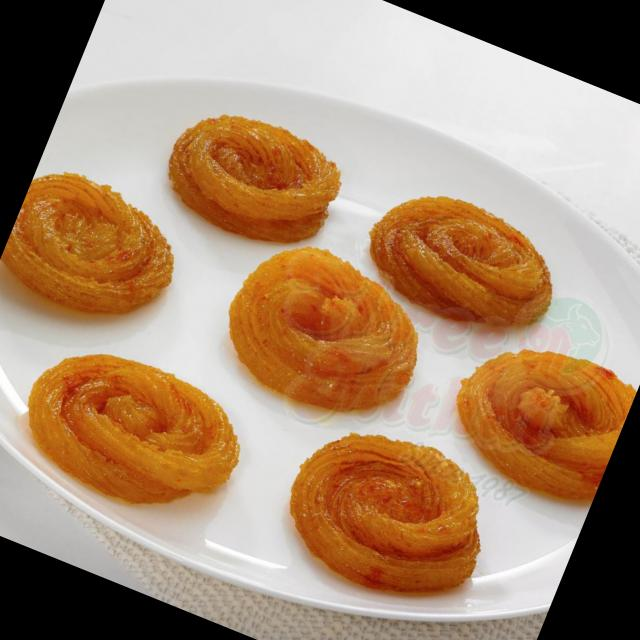jalebi: (0, 321, 252, 542), (270, 412, 506, 618), (352, 152, 584, 354), (213, 231, 448, 426), (429, 317, 636, 512), (151, 84, 364, 268), (0, 149, 191, 337)
